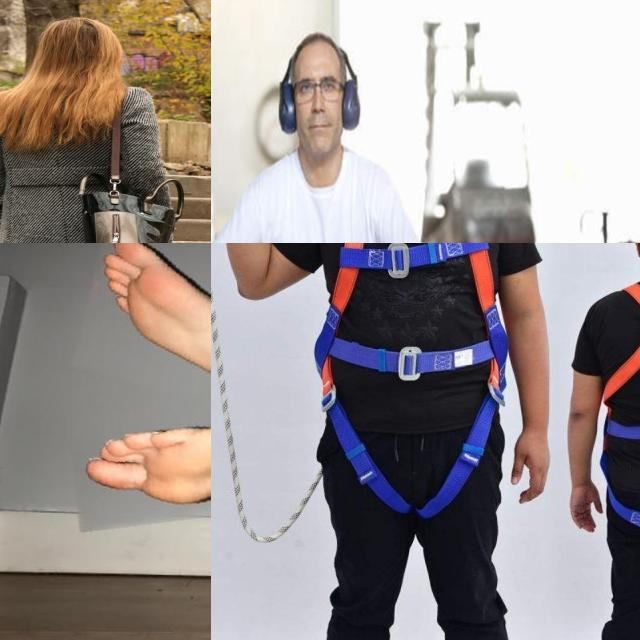Barefoots: (72, 410, 211, 514), (103, 243, 211, 368)
Ear-protection: (276, 33, 364, 172)
Harness: (324, 243, 494, 517), (597, 279, 640, 529)
glasses: (291, 76, 347, 102)
person: (211, 16, 504, 243)
